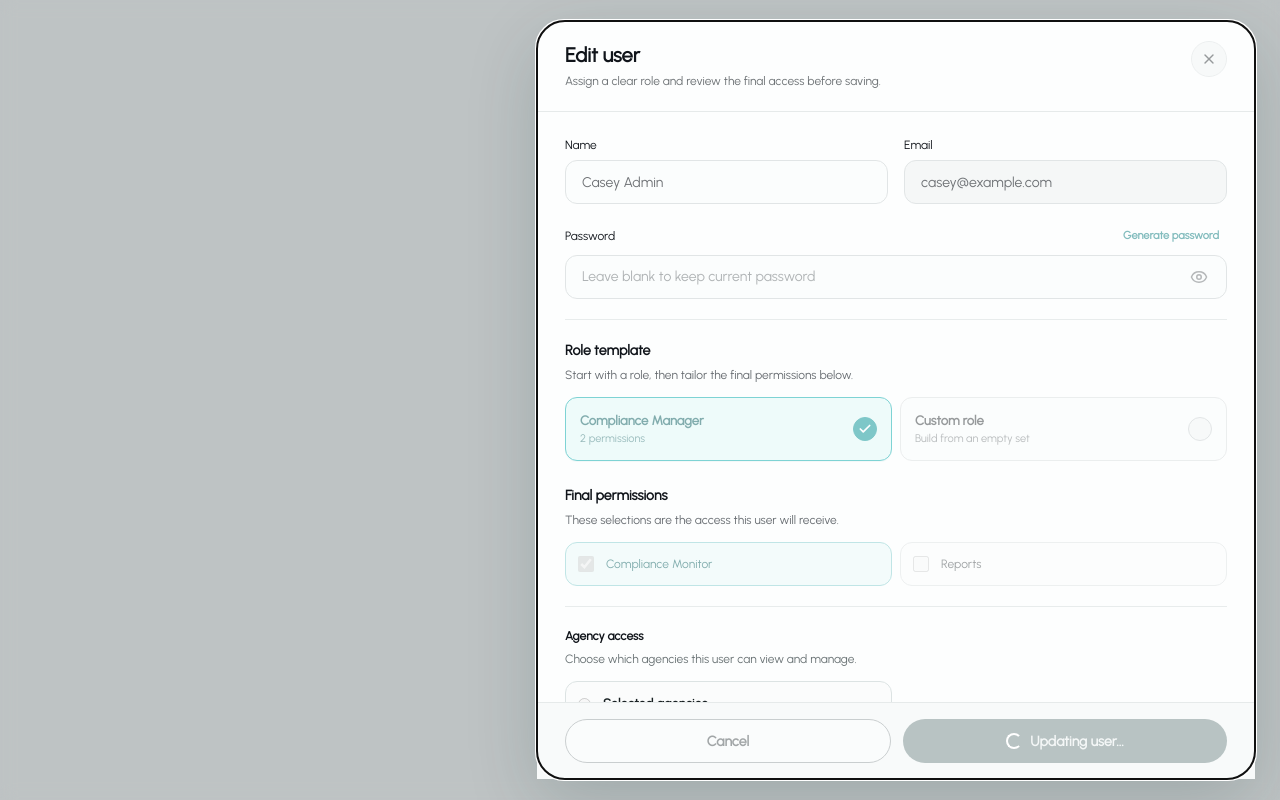
Test: UserAccessModal › keeps a reopened session guarded from an older pending save
Earlier steps of the test are not shown.
Later steps or results of the test are not shown.
Click the button "Updating user..." at [1065, 741], box left=903, top=719, right=1227, bottom=763
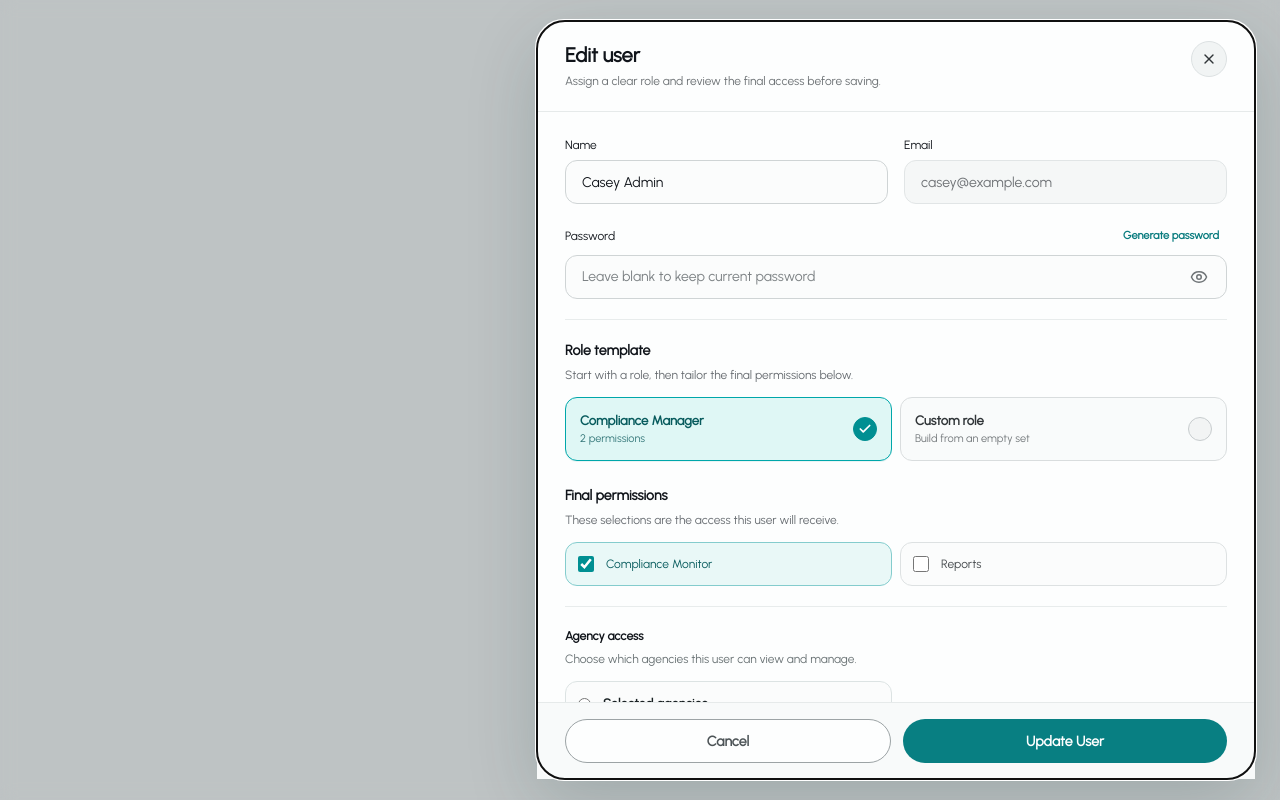
Expected: the button "Update User" is enabled, left=903, top=719, right=1227, bottom=763
